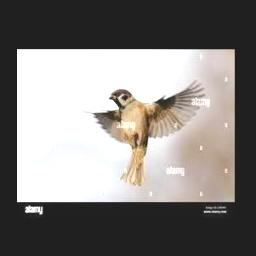Sparrow: (82, 80, 204, 186)
